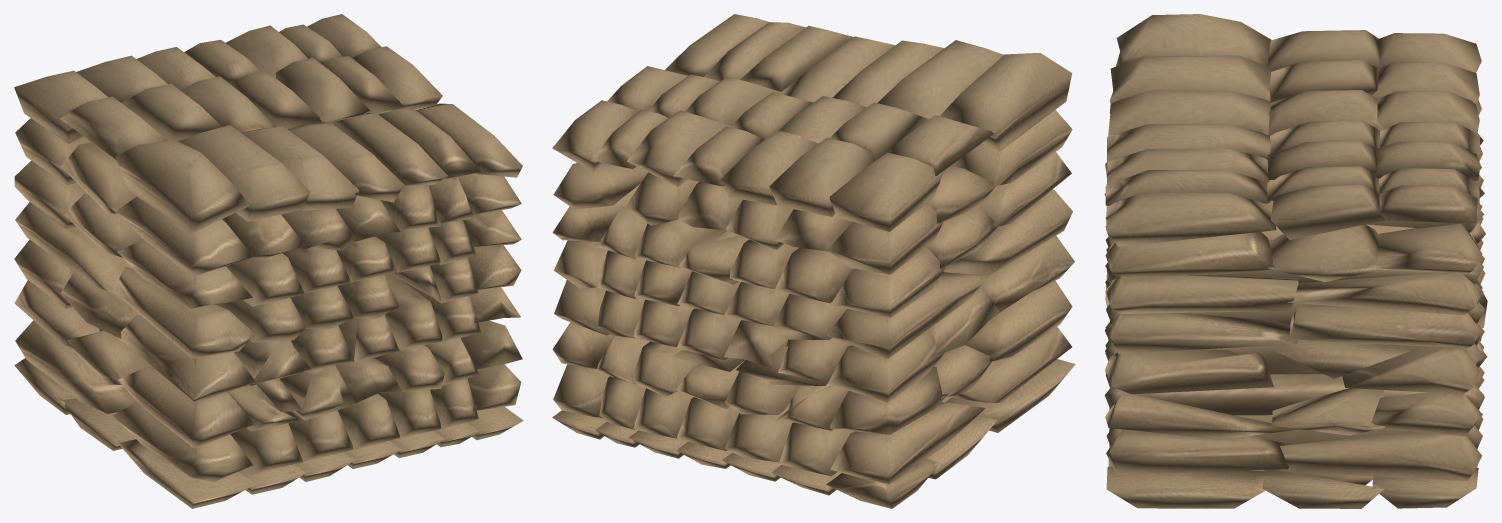
The model's file is sandbags.glb.
The picture shows the model from 3 angles, left to right: view 1: azimuth 30°, elevation 25°; view 2: azimuth 150°, elevation 25°; view 3: azimuth 270°, elevation 25°; orthographic projection. The views are drawn at different scales.
Bounding box in the file's own units: 1 × 1 × 1.
Materials: 1 (1 with a texture image).
